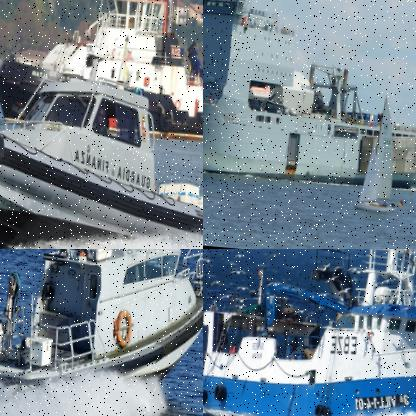Fishing Boat: (203, 249, 415, 415)
Military Ship: (203, 0, 415, 194)
Patrol Boat: (0, 16, 202, 248), (0, 249, 202, 411)
Sails Boat: (352, 94, 408, 214)
Tugboat: (0, 0, 202, 152)
